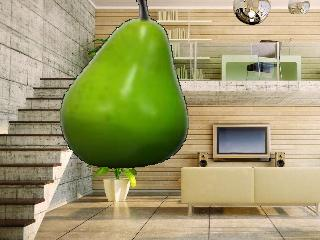pear: (60, 0, 189, 168)
